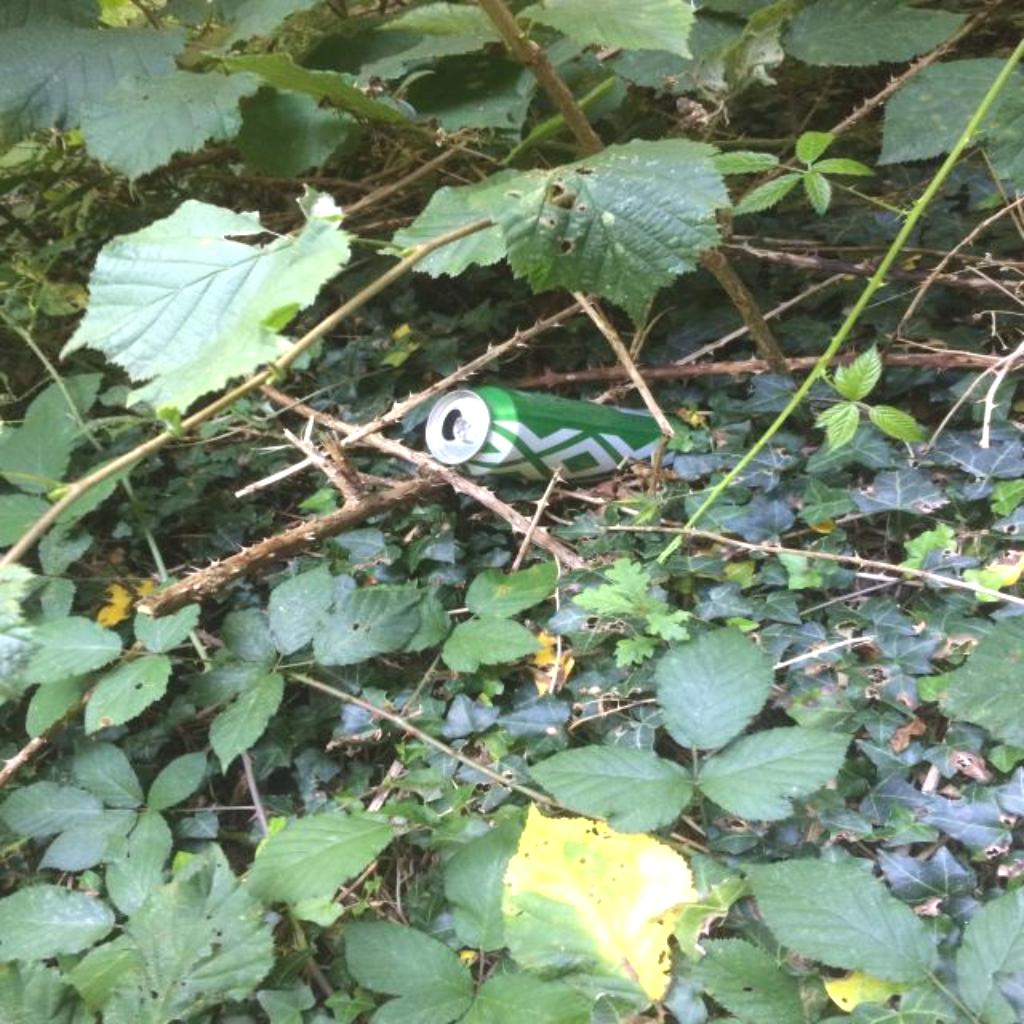garbage: (428, 386, 706, 475)
